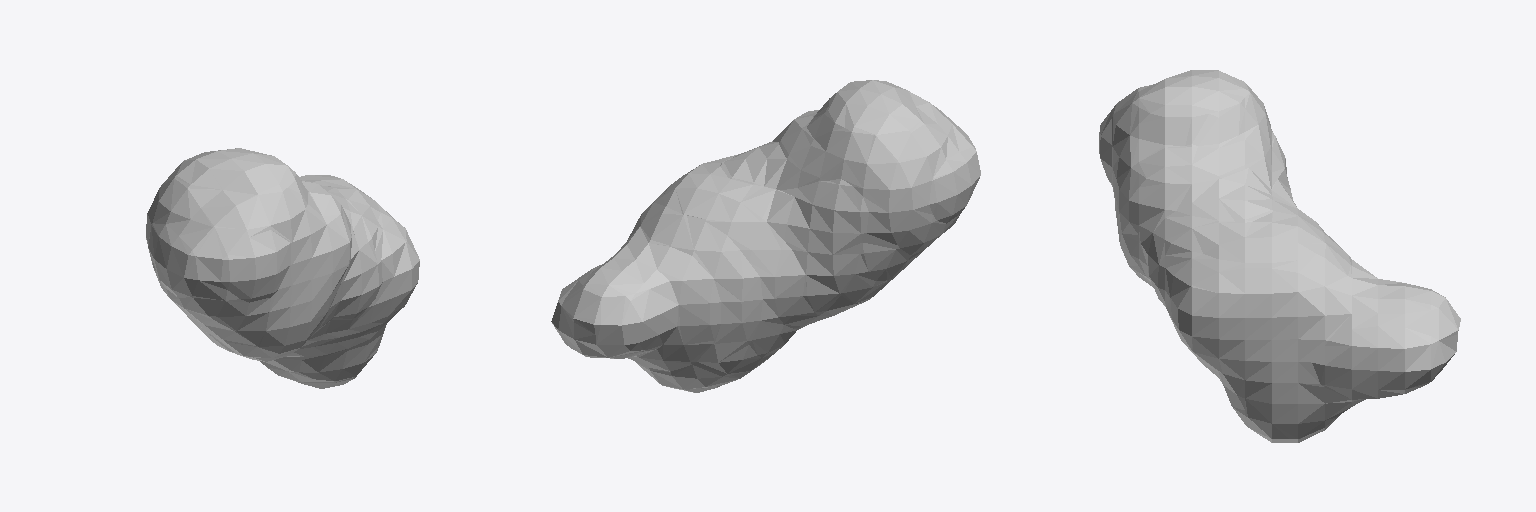
The model's file is 2k8i_aligned_cms.obj.
3 views of the same model, side by side, from view 1: azimuth 30°, elevation 25°; view 2: azimuth 150°, elevation 25°; view 3: azimuth 270°, elevation 25° (orthographic).
Size of the model in its own units: 69.41 by 66.16 by 74.21.